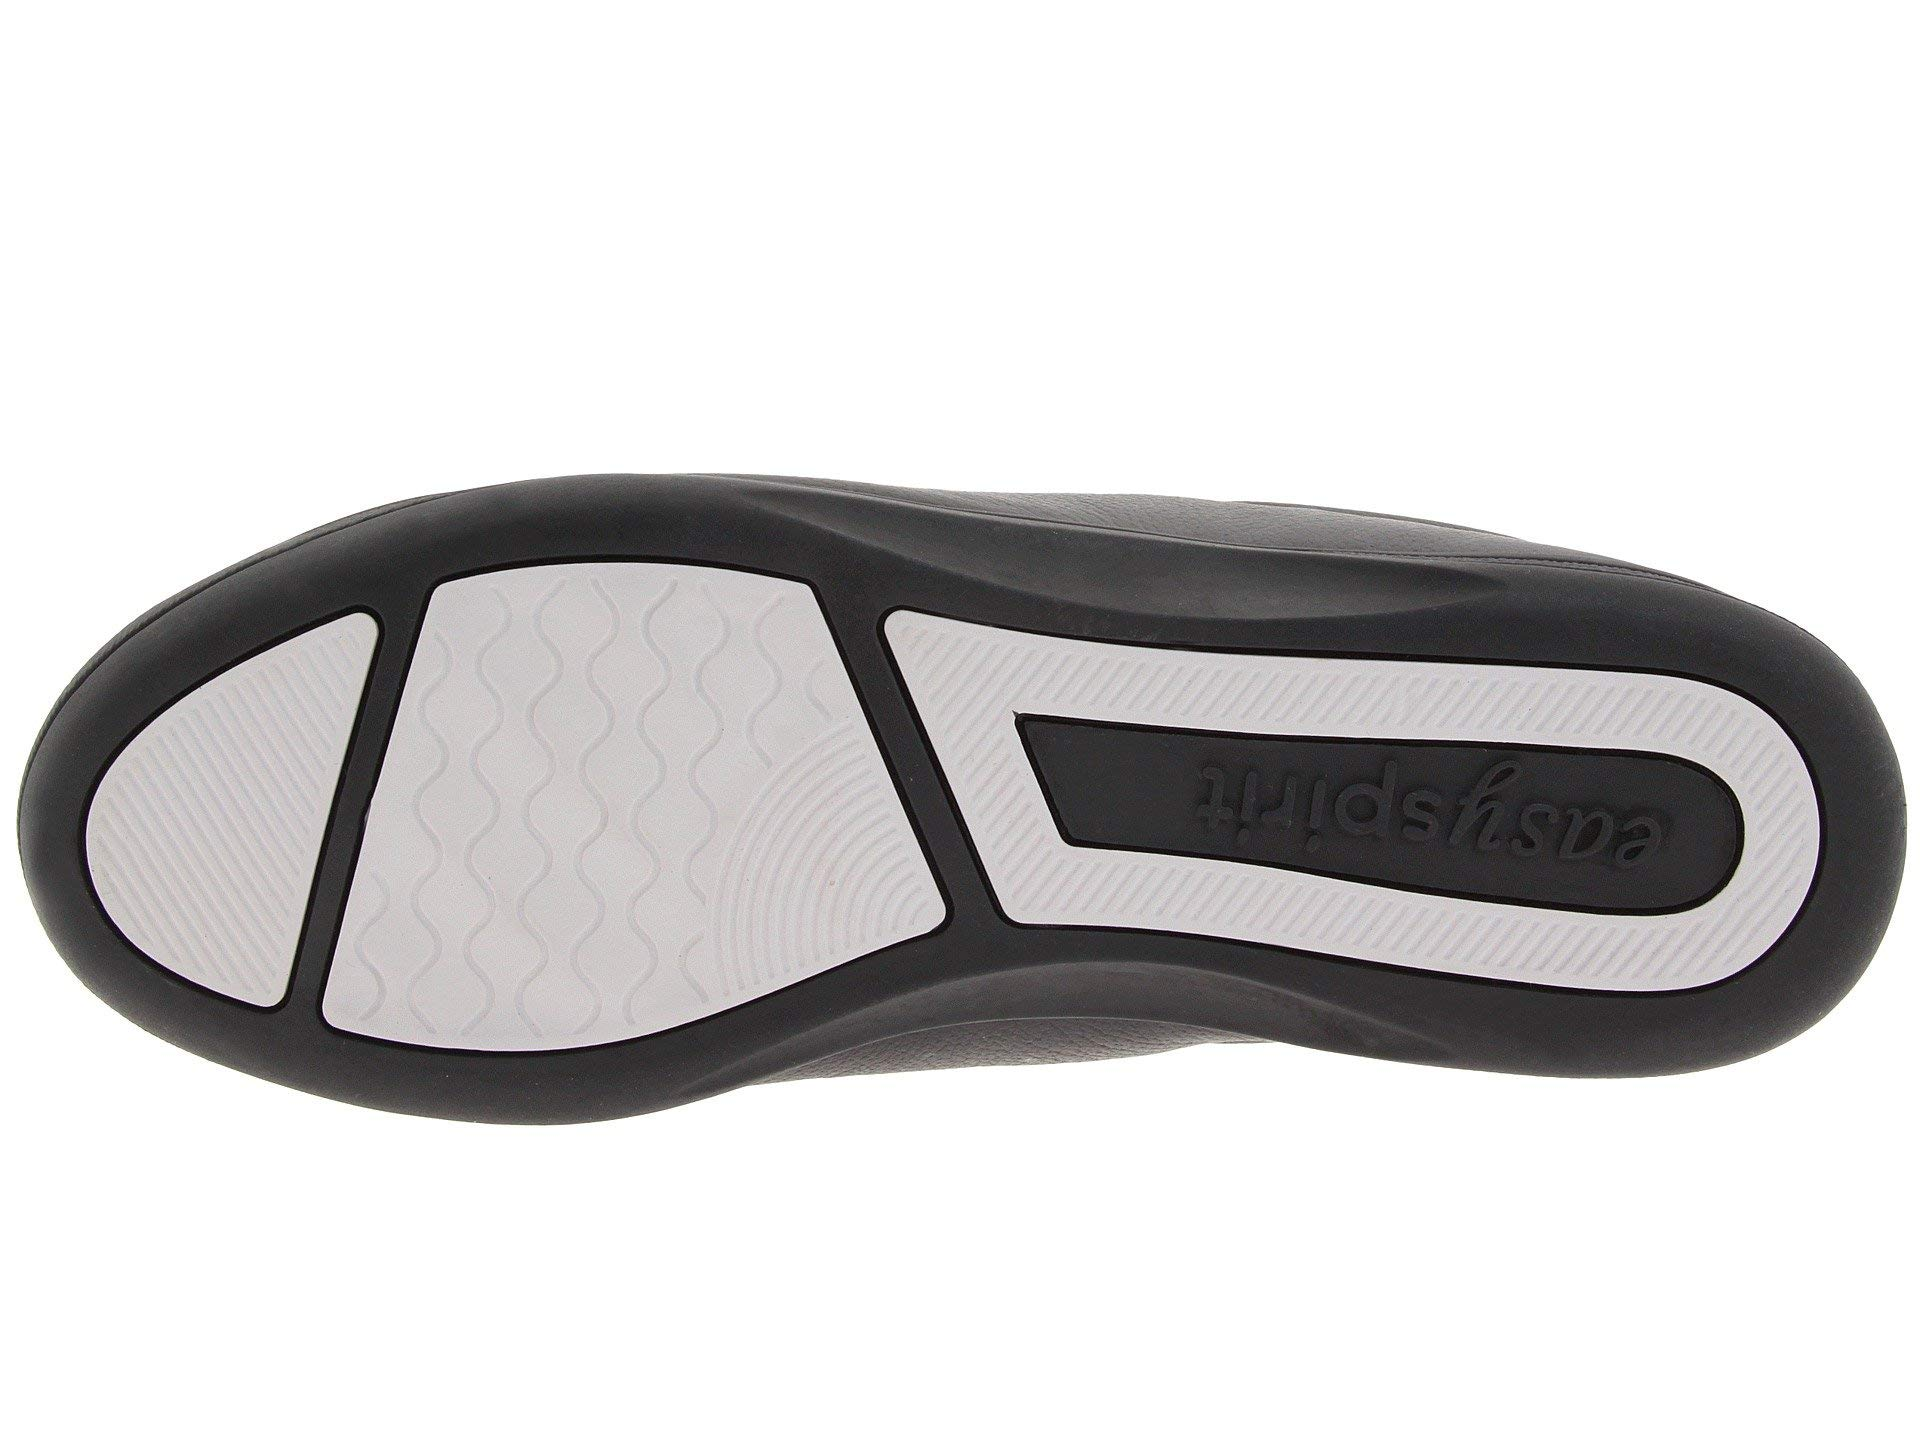circle: (977, 641, 1745, 920)
line: (977, 641, 1745, 920), (457, 576, 875, 992)
other: (457, 576, 875, 992)
text: (977, 641, 1745, 920)
